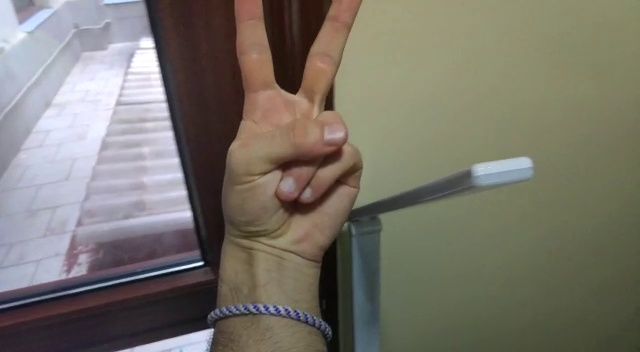Peace: (210, 1, 377, 252)
